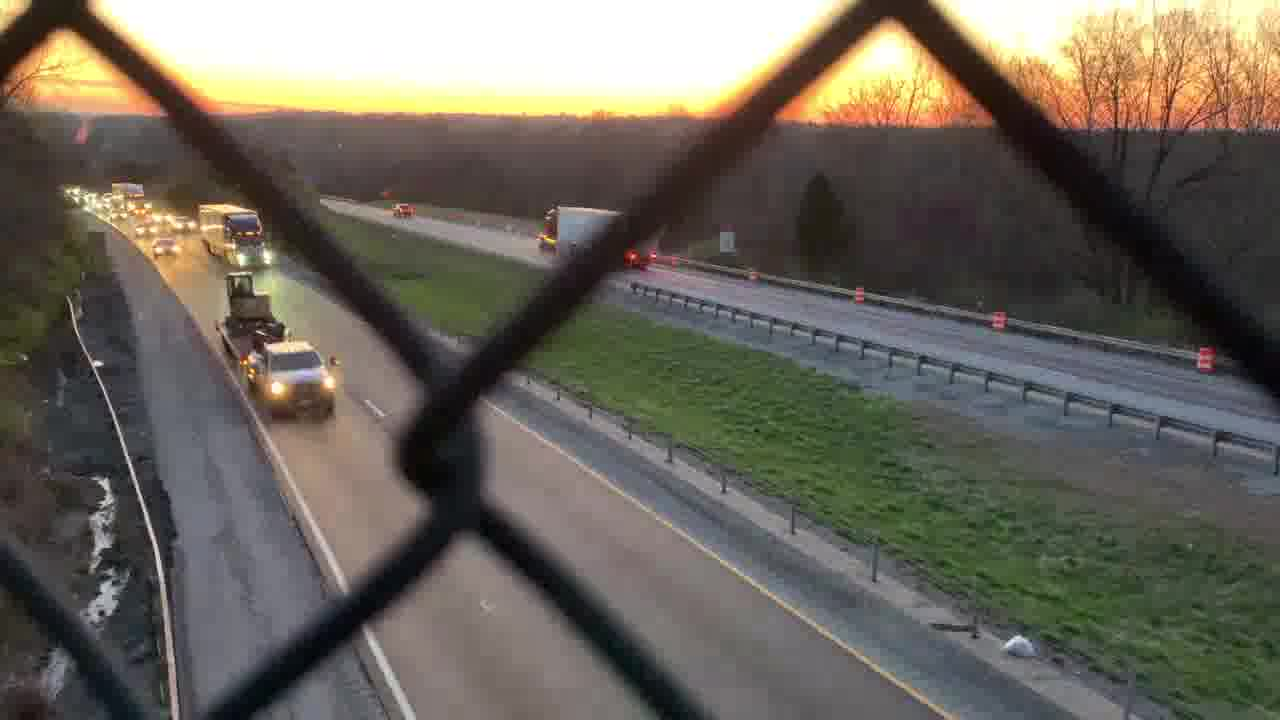heavyTruck: (223, 270, 340, 426), (536, 200, 661, 272), (195, 206, 277, 273)
smallCar: (151, 236, 178, 258)
